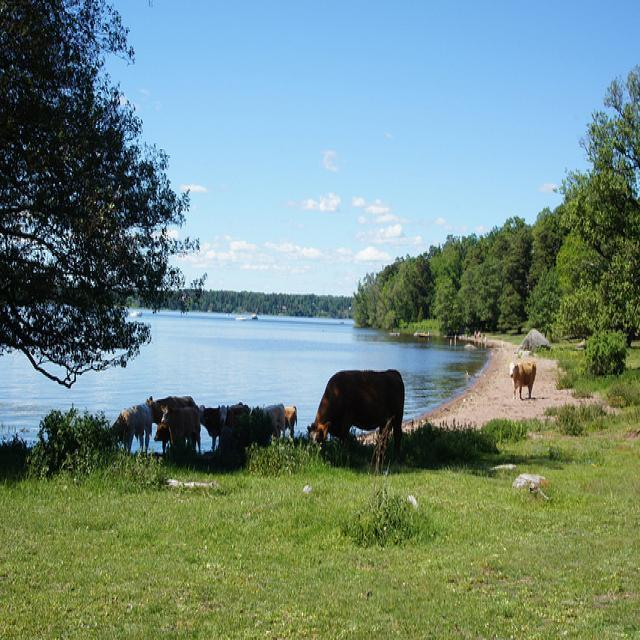cow: (305, 368, 405, 460), (108, 402, 152, 453), (158, 404, 199, 450), (143, 393, 196, 422), (196, 404, 227, 449), (506, 359, 534, 398), (263, 401, 284, 438), (218, 402, 249, 425), (153, 422, 170, 456), (281, 402, 296, 437), (226, 402, 241, 407)
